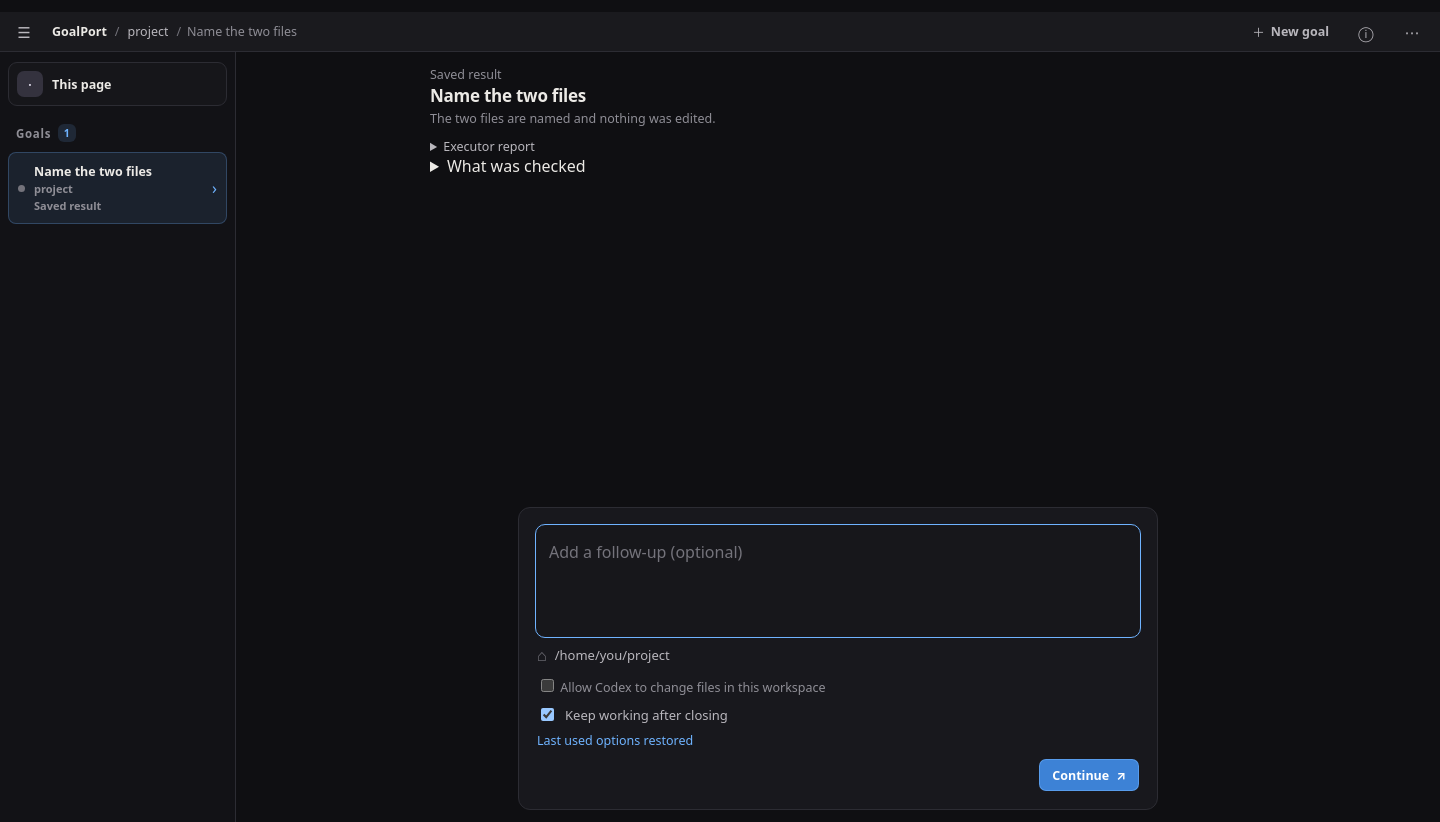
Test: Linux Core bridge › points an empty Linux draft at the coordinated CLI and does not invent a coordination bridge
Expected: the heading "Name the two files" is shown, [430,84,586,107]
Expected: the field named "Project folder" is disabled, [555,644,1139,666]
Type "Plan the check" into the text box named "message" at {"x": 838, "y": 580}, box [537,526,1139,636]
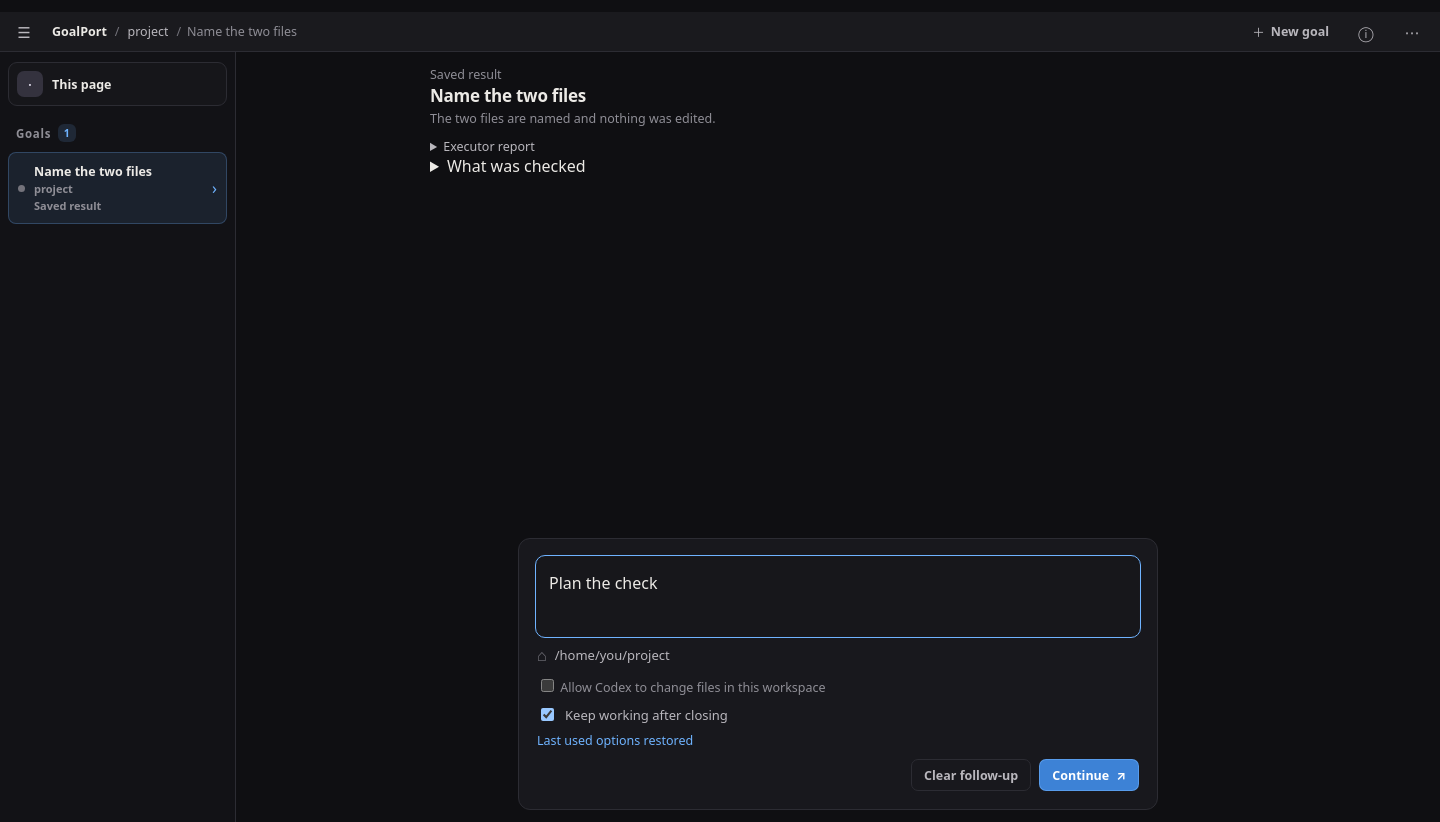
Expected: the text "The two files are named and nothing was edited." is shown, [430,110,716,127]
Expected: the button "Clear follow-up" is shown, [911,759,1031,791]
Click the button "＋ New goal" at {"x": 1291, "y": 32}, box [1241,14,1340,48]
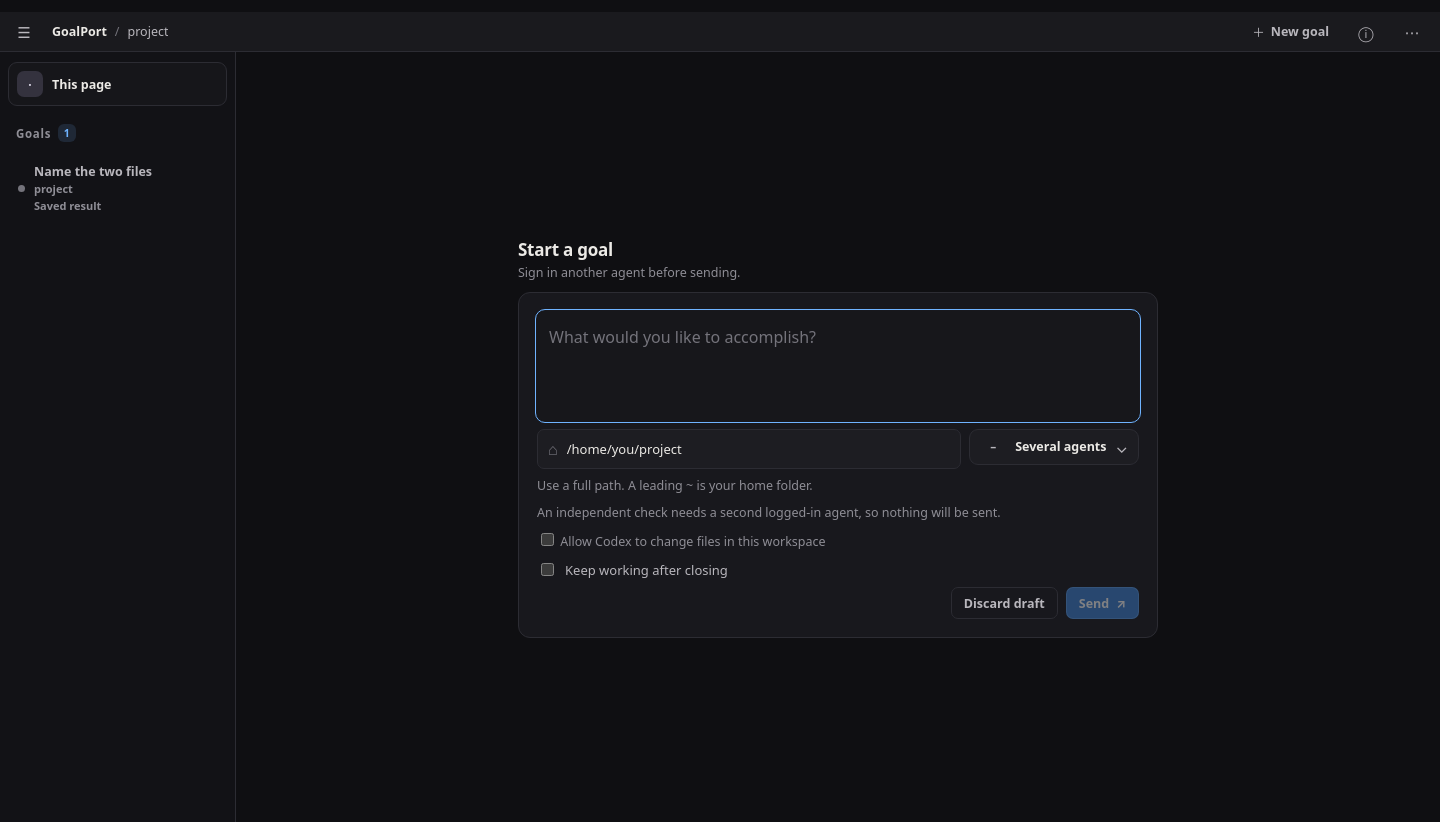
Expected: the heading "Start a goal" is shown, [518,238,613,261]
Expected: the text "Use a full path. A leading ~ is your home folder." is shown, [537,477,813,494]
Expected: the text "An independent check needs a second logged-in agent, so nothing will be sent." is shown, [537,504,1001,521]
Type "Try anyway" into the text box named "message" at {"x": 838, "y": 366}, box [537,311,1139,421]
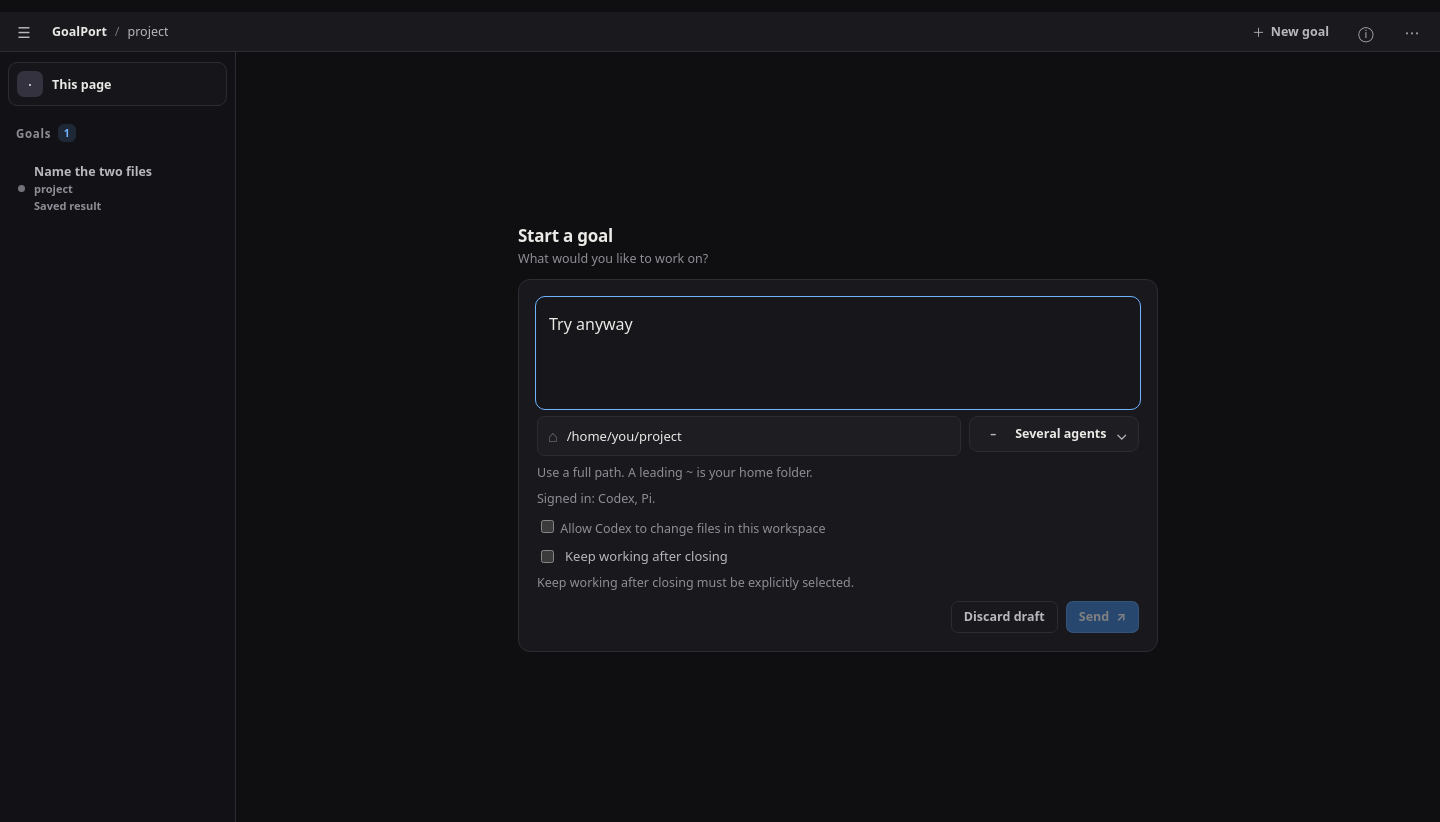
Expected: the checkbox labelled "Keep working after closing" is not checked
Expected: the text "An independent check needs a second logged-in agent, so nothing will be sent." is gone
Expected: the text "Signed in: Codex, Pi." is shown, [537,490,655,507]
Click the checkbox labelled "Keep working after closing" at {"x": 548, "y": 556}, box [541,550,554,563]
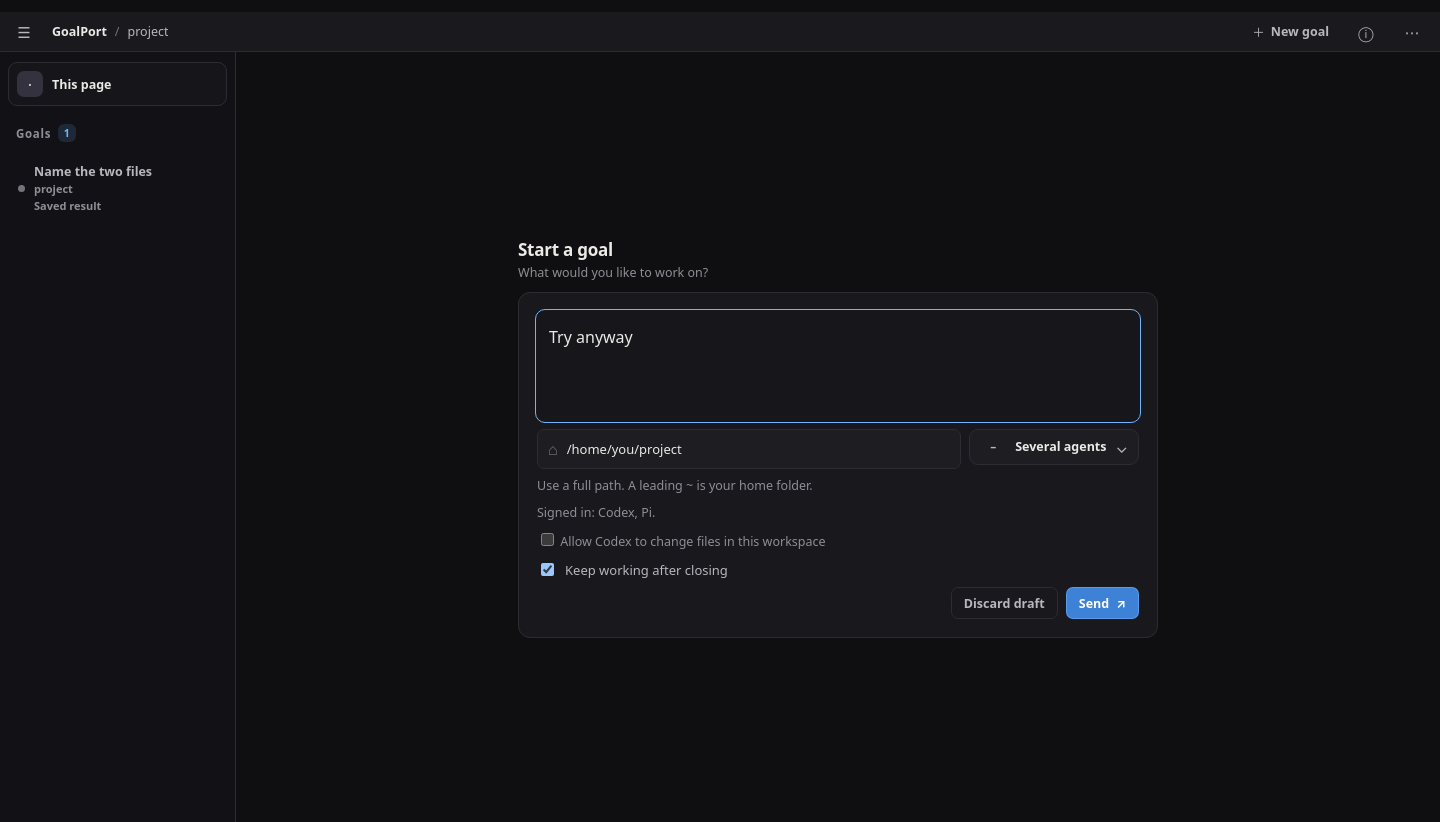
Expected: the field named "Project folder" holds "/home/you/project", [565,430,950,468]
Expected: the field named "Project folder" is enabled, [565,430,950,468]
Expected: the button with aria-label "Send message" is enabled, [1066,587,1139,619]
Click the button "Name the two files project Saved result" at {"x": 118, "y": 188}, box [8,152,227,224]
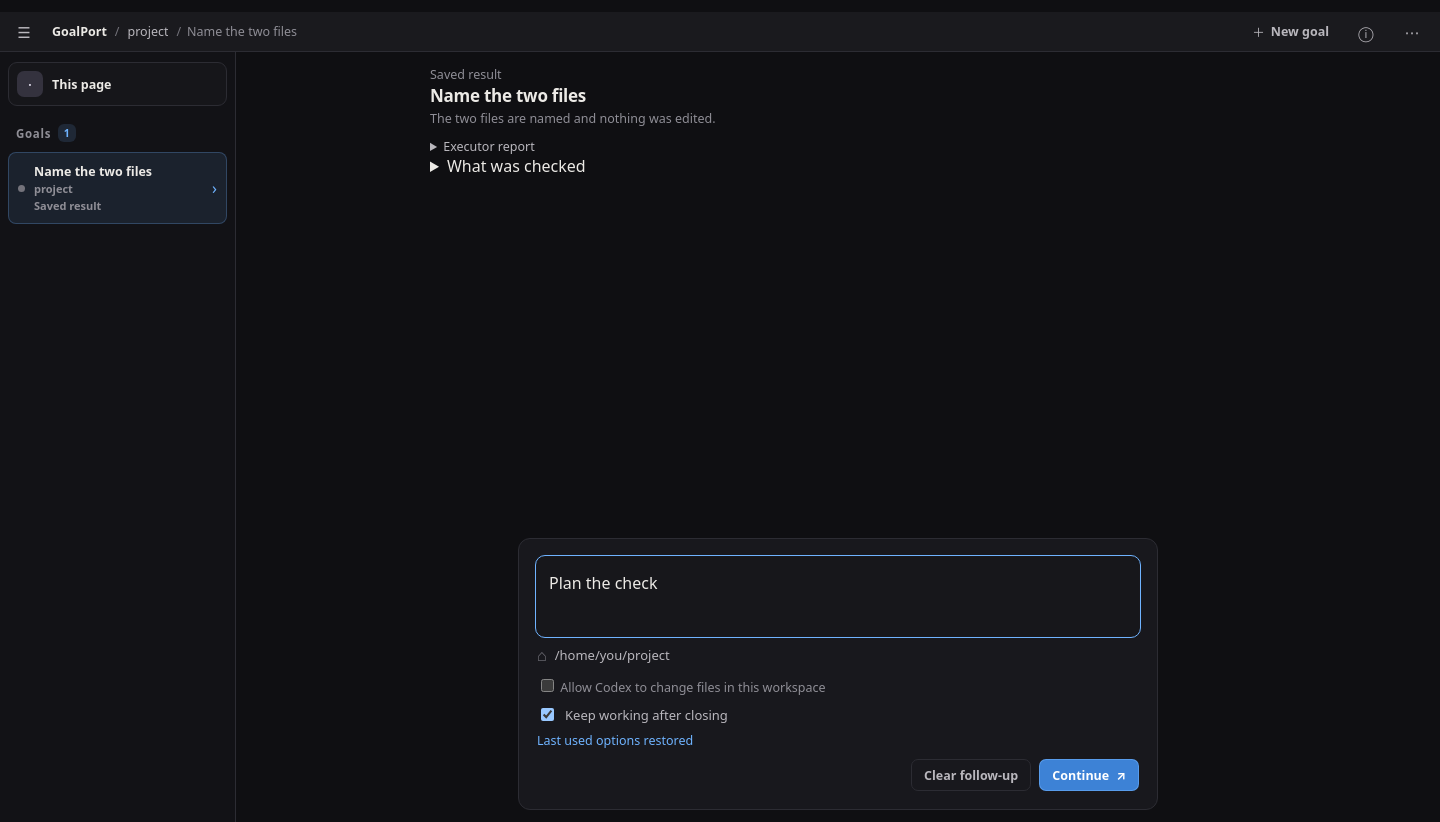
Expected: the element named "Continue this goal" is shown, [911,759,1139,791]
Expected: the heading "Name the two files" is shown, [430,84,586,107]
Expected: the element "Name the two files" is shown, [430,66,716,177]
